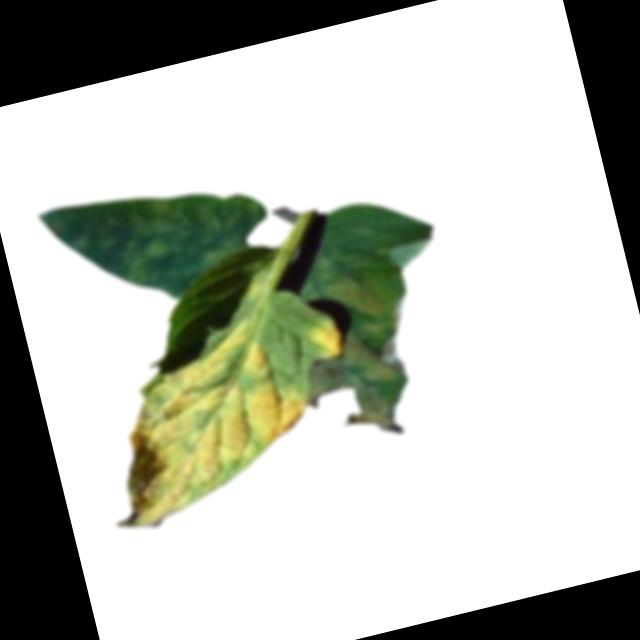Leaf_Mold: (76, 309, 325, 535), (37, 160, 276, 326), (275, 248, 436, 456)
